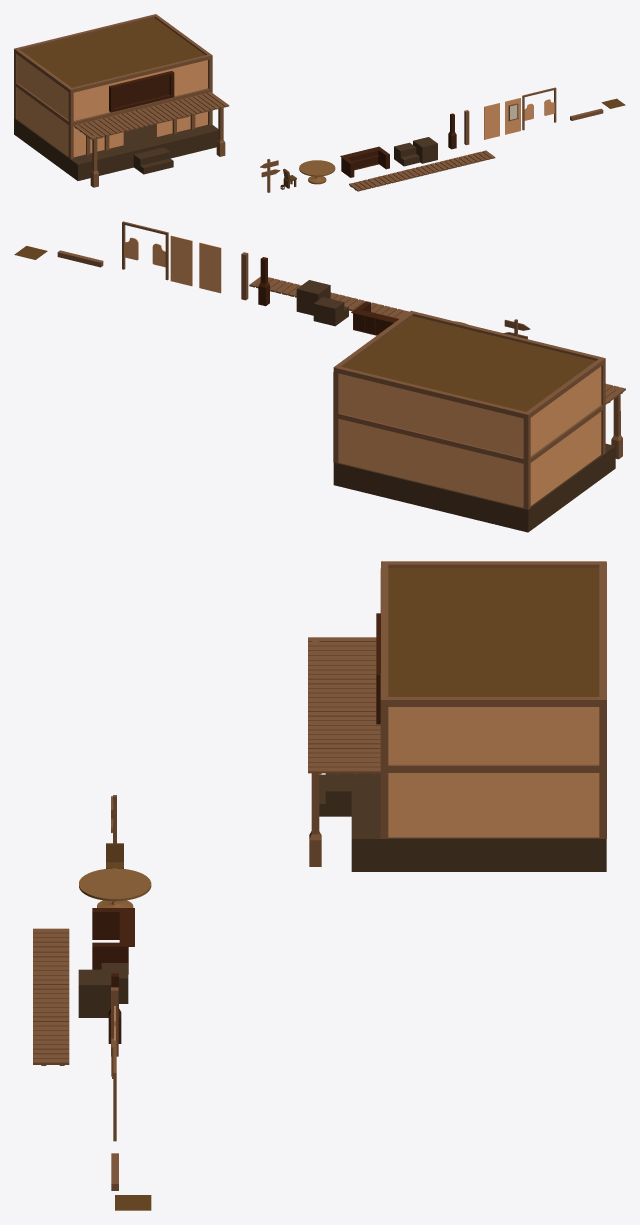
The model's file is western style building_v2.fbx.
The picture shows the model from 3 angles, top to bottom: view 1: azimuth 30°, elevation 25°; view 2: azimuth 150°, elevation 25°; view 3: azimuth 270°, elevation 25°; orthographic projection. The views are drawn at different scales.
Visible parts, largest first — view 1: 平面.010, 立方体.062, 立方体.142, 立方体.032, 立方体.130, 立方体.025, 立方体.128, NURBS 路径, 立方体, 立方体.028, 立方体.019, 立方体.010 (+24 smaller); view 2: 平面.010, 立方体.051, 立方体.130, 立方体.028, 立方体, 立方体.075, 立方体.077, 立方体.080, 立方体.076, 立方体.079, 立方体.020, 立方体.078 (+27 smaller); view 3: 平面.010, 立方体.130, 立方体.032, 立方体.025, 立方体.060, 立方体.061, 立方体.063, 立方体.064, 立方体.065, 立方体.128, NURBS 路径, 立方体.069 (+16 smaller).
Part boxes in pixels (box(x1,y1,x2,y2)): 平面.010: box(21, 18, 205, 87); 立方体.062: box(73, 60, 207, 120); 立方体.142: box(109, 71, 174, 112); 立方体.032: box(83, 98, 229, 139); 立方体.130: box(349, 150, 495, 191); 立方体.025: box(74, 92, 219, 132); 立方体.128: box(340, 146, 389, 177); NURBS 路径: box(299, 160, 335, 184); 立方体: box(484, 103, 499, 139); 立方体.028: box(505, 98, 520, 134); 立方体.019: box(68, 154, 92, 180); 立方体.010: box(413, 137, 437, 163); 平面.010: box(343, 316, 595, 411); 立方体.051: box(333, 462, 540, 532); 立方体.130: box(249, 277, 408, 318); 立方体.028: box(170, 235, 192, 286); 立方体: box(199, 242, 221, 293); 立方体.075: box(360, 424, 382, 473); 立方体.077: box(403, 434, 425, 483); 立方体.080: box(468, 450, 490, 499); 立方体.076: box(382, 429, 403, 478); 立方体.079: box(447, 445, 468, 494); 立方体.020: box(339, 419, 360, 467); 立方体.078: box(425, 440, 446, 488); 平面.010: box(388, 568, 599, 696); 立方体.130: box(33, 928, 69, 1065); 立方体.032: box(308, 637, 344, 774); 立方体.025: box(344, 637, 380, 774); 立方体.060: box(388, 773, 424, 837); 立方体.061: box(424, 773, 460, 837); 立方体.063: box(461, 773, 497, 837); 立方体.064: box(497, 773, 533, 837); 立方体.065: box(534, 773, 570, 837); 立方体.128: box(92, 908, 134, 974); NURBS 路径: box(79, 868, 151, 907); 立方体.069: box(388, 707, 424, 764).
Bounding box in the file's own units: 62.01 × 31.52 × 10.62.
Materials: 8 (1 with a texture image).
